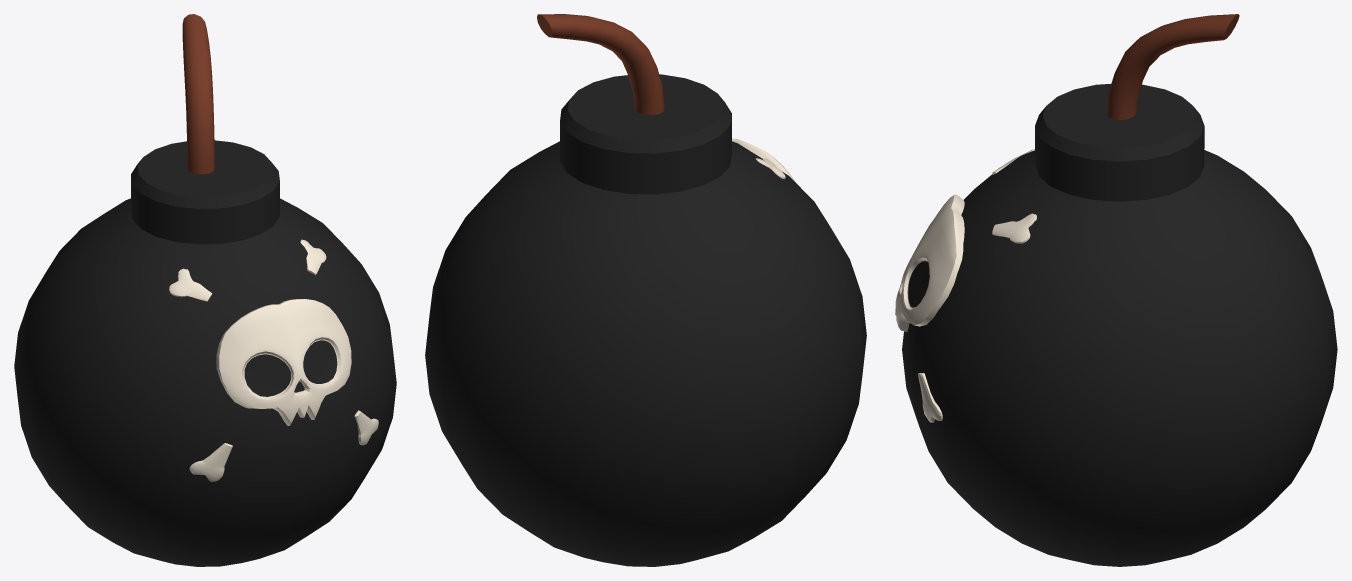
The model's file is bomb.fbx.
3 renders of one model, left to right at view 1: azimuth 30°, elevation 25°; view 2: azimuth 150°, elevation 25°; view 3: azimuth 270°, elevation 25°, orthographic. The views are drawn at different scales.
Visible parts, largest first — view 1: bomb, line; view 2: bomb, line; view 3: bomb, line.
Part boxes in pixels (<box>): bomb: <box>14,140,396,566</box>; line: <box>182,14,214,174</box>; bomb: <box>425,74,866,566</box>; line: <box>537,14,664,115</box>; bomb: <box>895,83,1337,566</box>; line: <box>1106,14,1239,119</box>.
Size of the model in its own units: 113 by 158 by 114.
